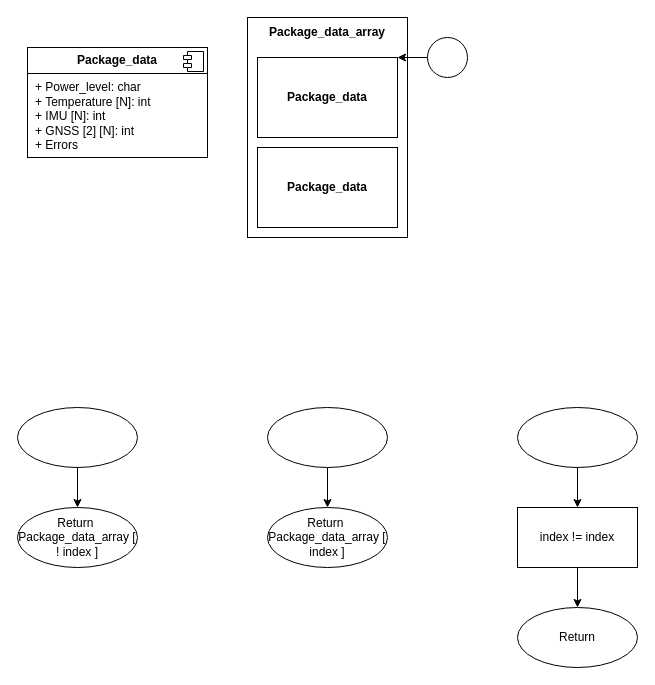
This 655x685 diagram has some shape labels left out. Each missing label, with the box of its shape:
index: (426, 36, 468, 78)
Read_packege_data: (266, 406, 388, 468)
Update: (516, 406, 638, 468)
Write_packege_data: (16, 406, 138, 468)
